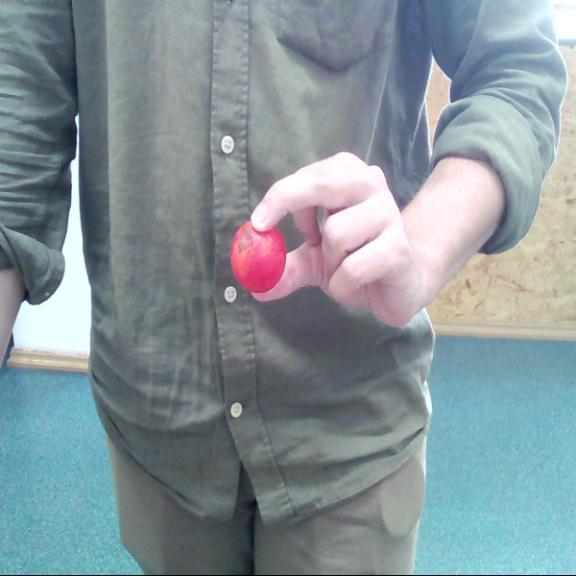ball: (230, 219, 286, 291)
